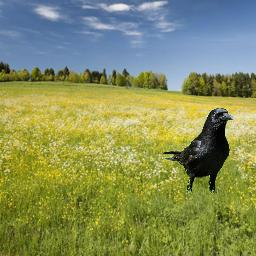Crow: (163, 107, 234, 194)
